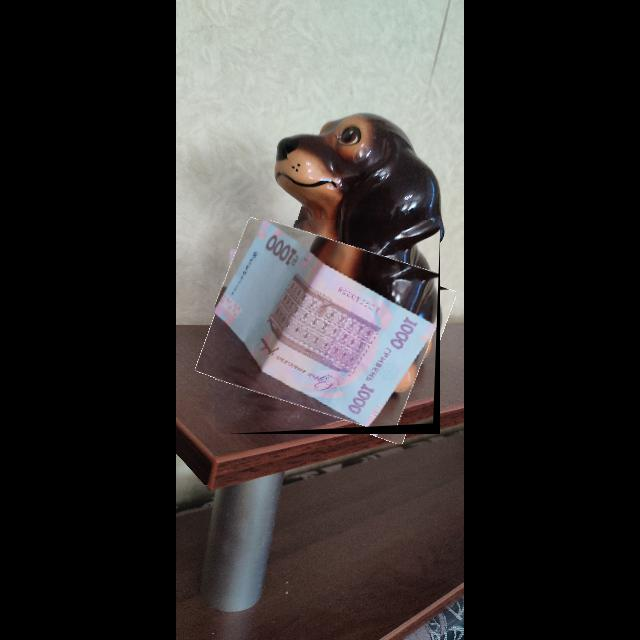1000uah: (215, 220, 438, 429)
